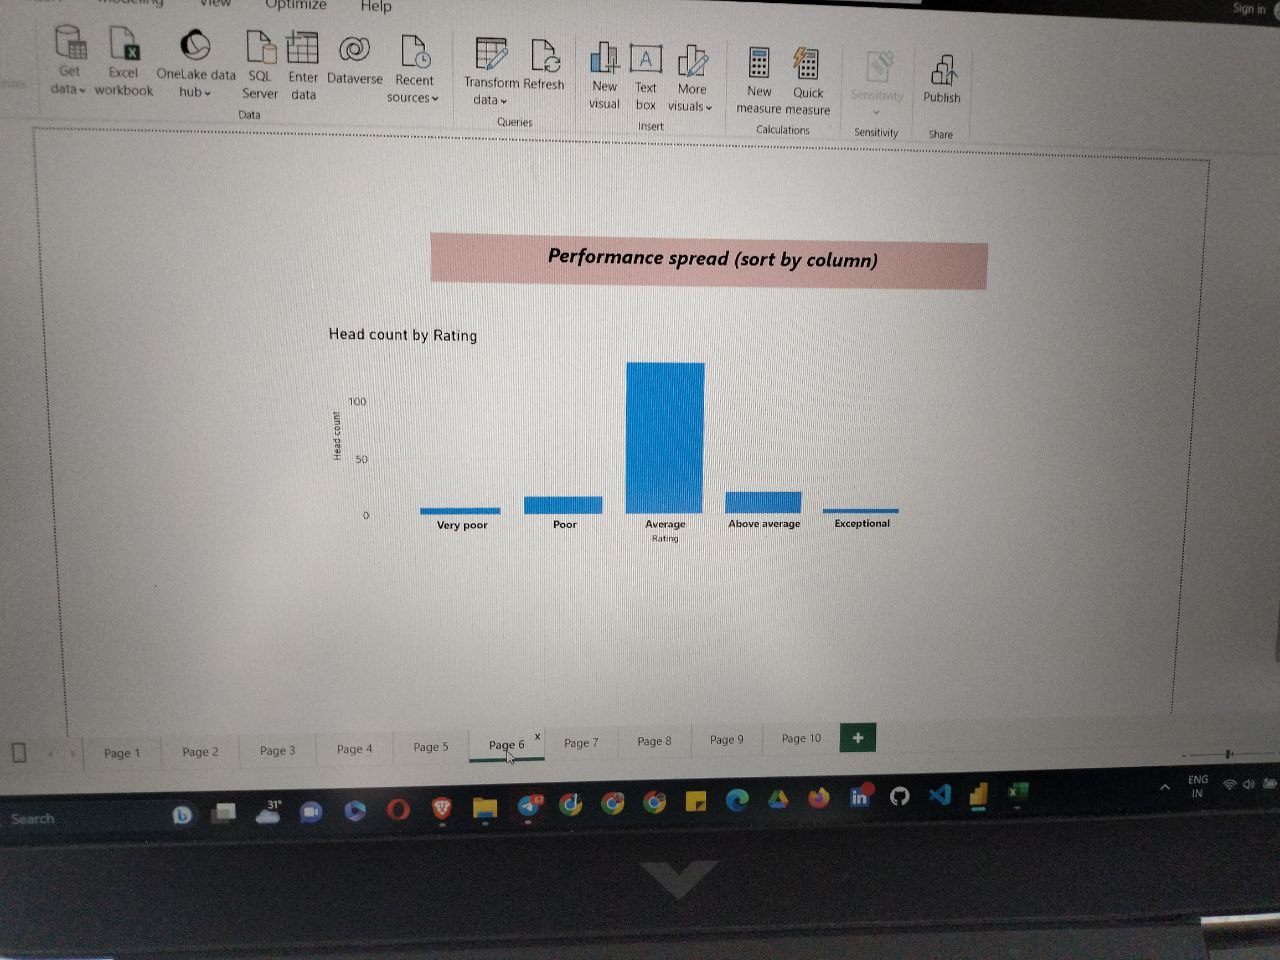

This screenshot's page, from the dashboard's own definition file:
{"tool":"powerbi","page":{"name":"Page 6","canvas":[1280,720],"ordinal":5},"visuals":[{"type":"textbox","box":[403.3,97.8,620,52.2],"z":0},{"type":"columnChart","fields":{"Y":["Data.Head count"],"Category":["Filed order (2).Rating"]},"box":[288.9,196.7,697.8,247.8],"z":1}]}

Visuals, with their boxes on the page's 1280x720 design canvas (x1, y1, x2, y2). These are canvas units, not pixel positions in the 1280x960 screenshot, which may show the page scaled, cropped or inside an application window:
textbox: <region>403, 98, 1023, 150</region>
columnChart - Data.Head count x Filed order (2).Rating: <region>289, 197, 987, 444</region>
